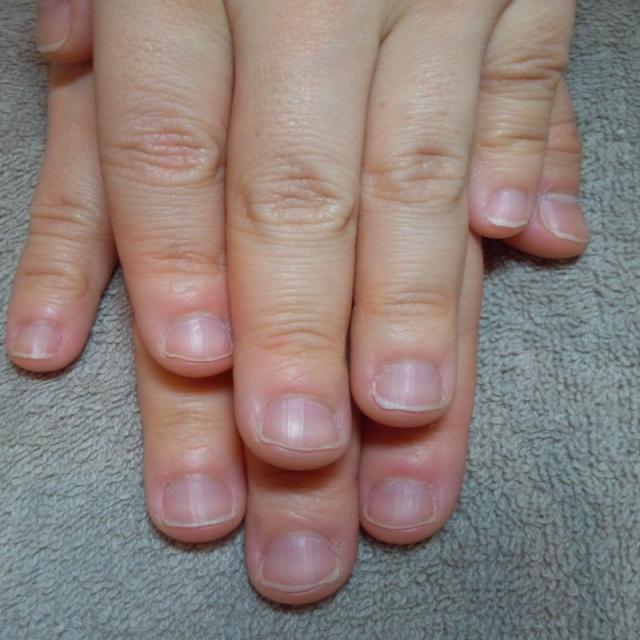Fingernail: (262, 534, 336, 590), (261, 398, 340, 450), (164, 478, 234, 526), (376, 362, 444, 410), (368, 480, 435, 527), (165, 315, 230, 360), (541, 194, 590, 242), (10, 323, 59, 357), (487, 188, 528, 227)
